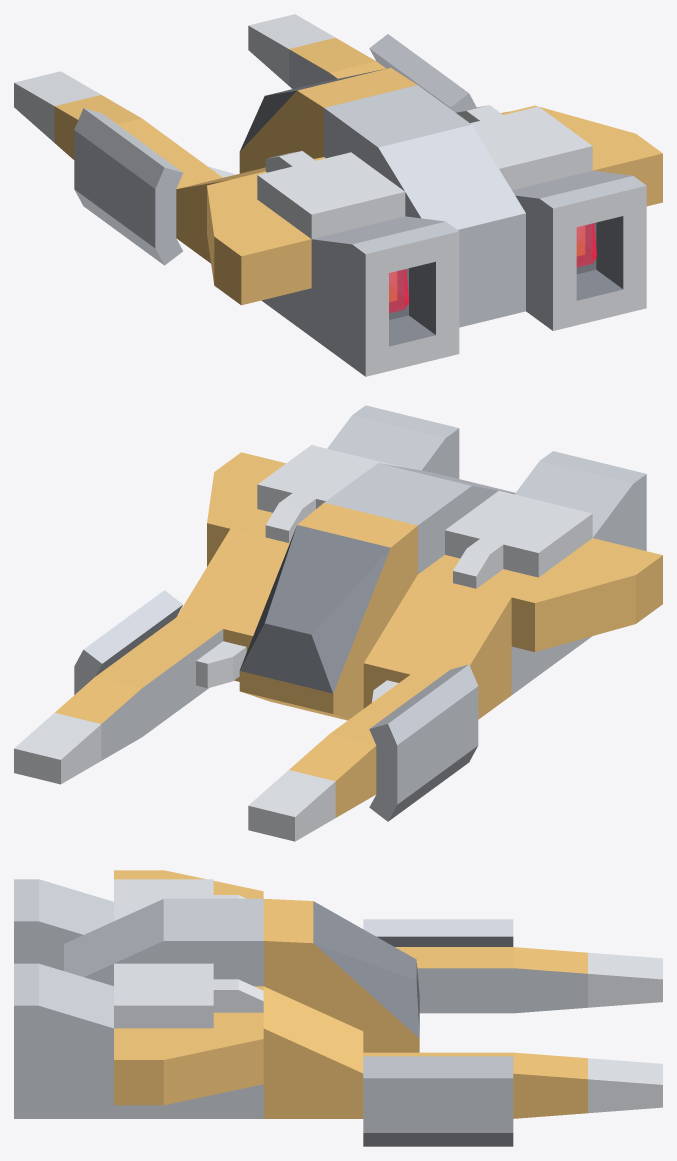
Rendered from ship_small_thrust.glb.
The picture shows the model from 3 angles, top to bottom: view 1: azimuth 30°, elevation 25°; view 2: azimuth 150°, elevation 25°; view 3: azimuth 270°, elevation 25°; orthographic projection. The views are drawn at different scales.
Parts seen in each view (by area): view 1: craft_miner, anim_thrust_z_neg.002, anim_thrust_z_neg.001; view 2: craft_miner; view 3: craft_miner.
Boxes of the visible parts, x1,y1,x2,y2 form: craft_miner: (14, 14, 662, 376); anim_thrust_z_neg.002: (576, 223, 596, 267); anim_thrust_z_neg.001: (389, 269, 409, 313); craft_miner: (14, 405, 662, 841); craft_miner: (14, 870, 662, 1146).
Size of the model in its own units: 0.069 by 0.0269 by 0.0997.
